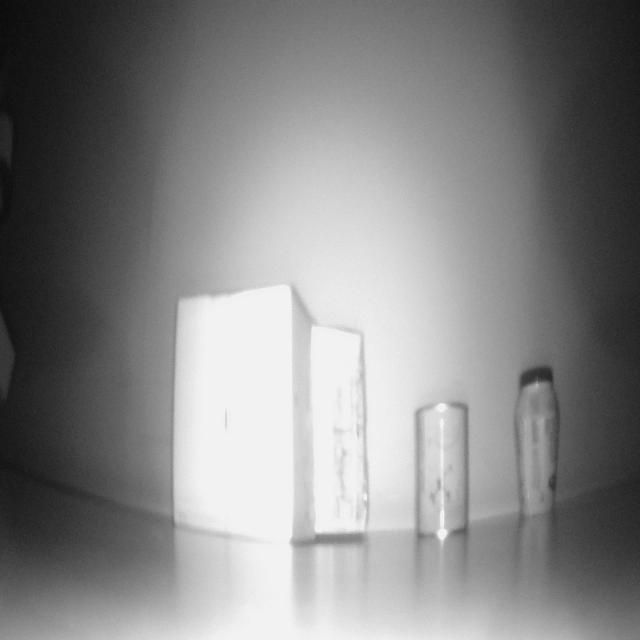targets: (174, 288, 372, 544), (413, 402, 470, 540), (510, 366, 561, 516)
